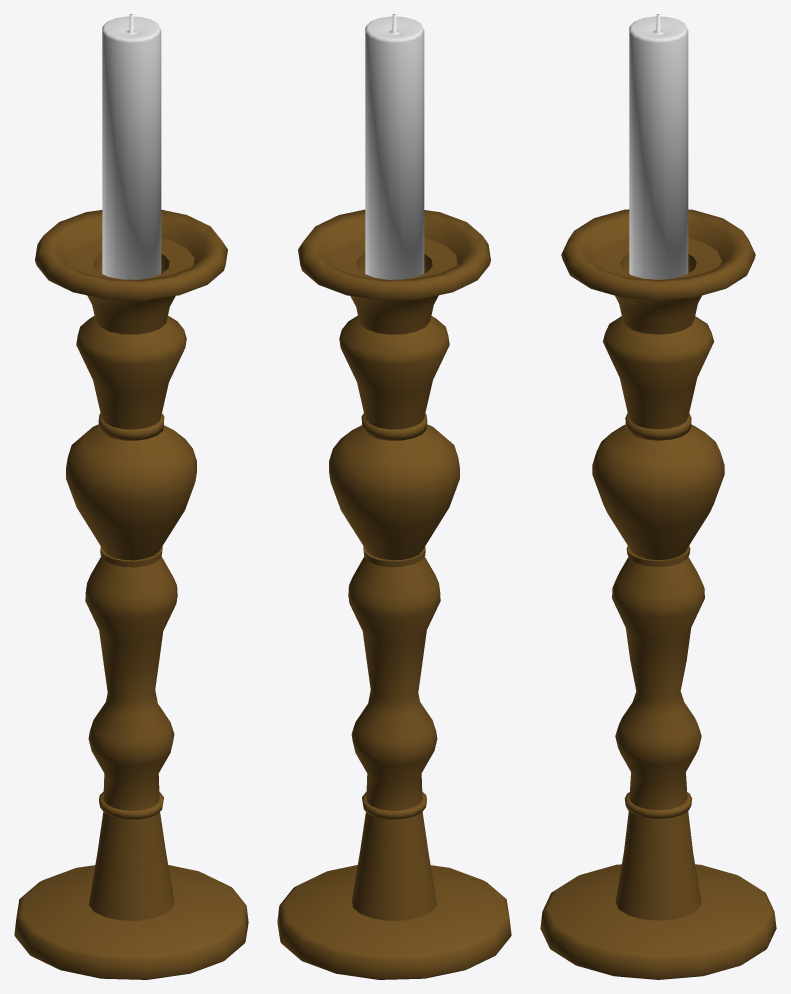
The model's file is Candle_holder_4.fbx.
3 renders of one model, left to right at view 1: azimuth 30°, elevation 25°; view 2: azimuth 150°, elevation 25°; view 3: azimuth 270°, elevation 25°, orthographic.
Parts seen in each view (by area): view 1: Candle_holder_4; view 2: Candle_holder_4; view 3: Candle_holder_4.
Part boxes in pixels (left/top/right/bottom): Candle_holder_4: left=14, top=14, right=248, bottom=979; Candle_holder_4: left=277, top=14, right=511, bottom=979; Candle_holder_4: left=540, top=14, right=776, bottom=979.
Bounding box in the file's own units: 8.5 × 36.37 × 8.5.
